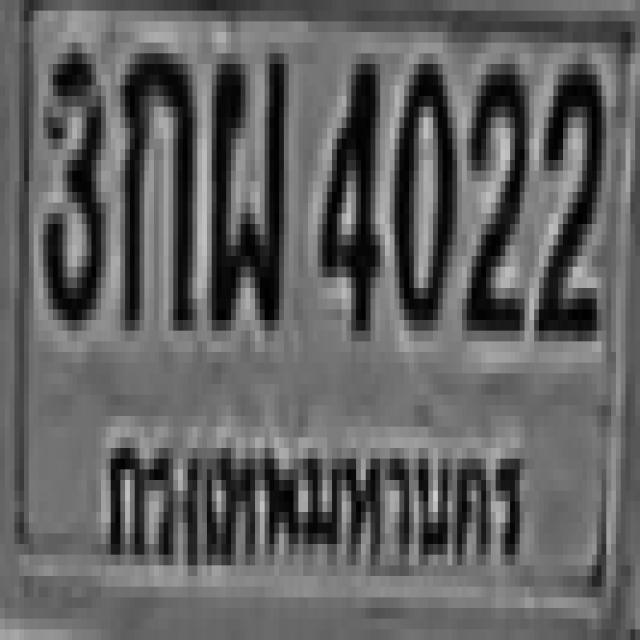0: (390, 53, 452, 320)
10GorGai: (118, 43, 190, 320)
2: (534, 53, 602, 331), (462, 48, 524, 325)
3: (39, 32, 101, 320)
37PhorPhueng: (207, 43, 284, 320)
4: (318, 48, 375, 325)
Bangkok: (89, 404, 541, 596)
